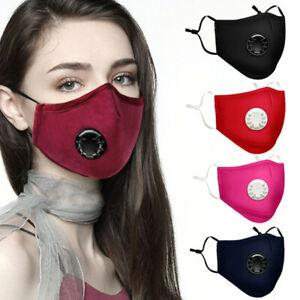Wearing Mask: (0, 0, 164, 184), (180, 220, 300, 300), (176, 81, 300, 156), (181, 6, 300, 84), (181, 160, 295, 225)
